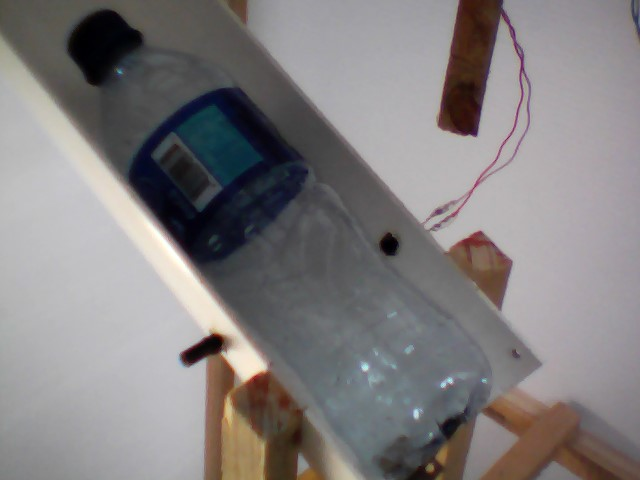plastico: (64, 5, 498, 480)
